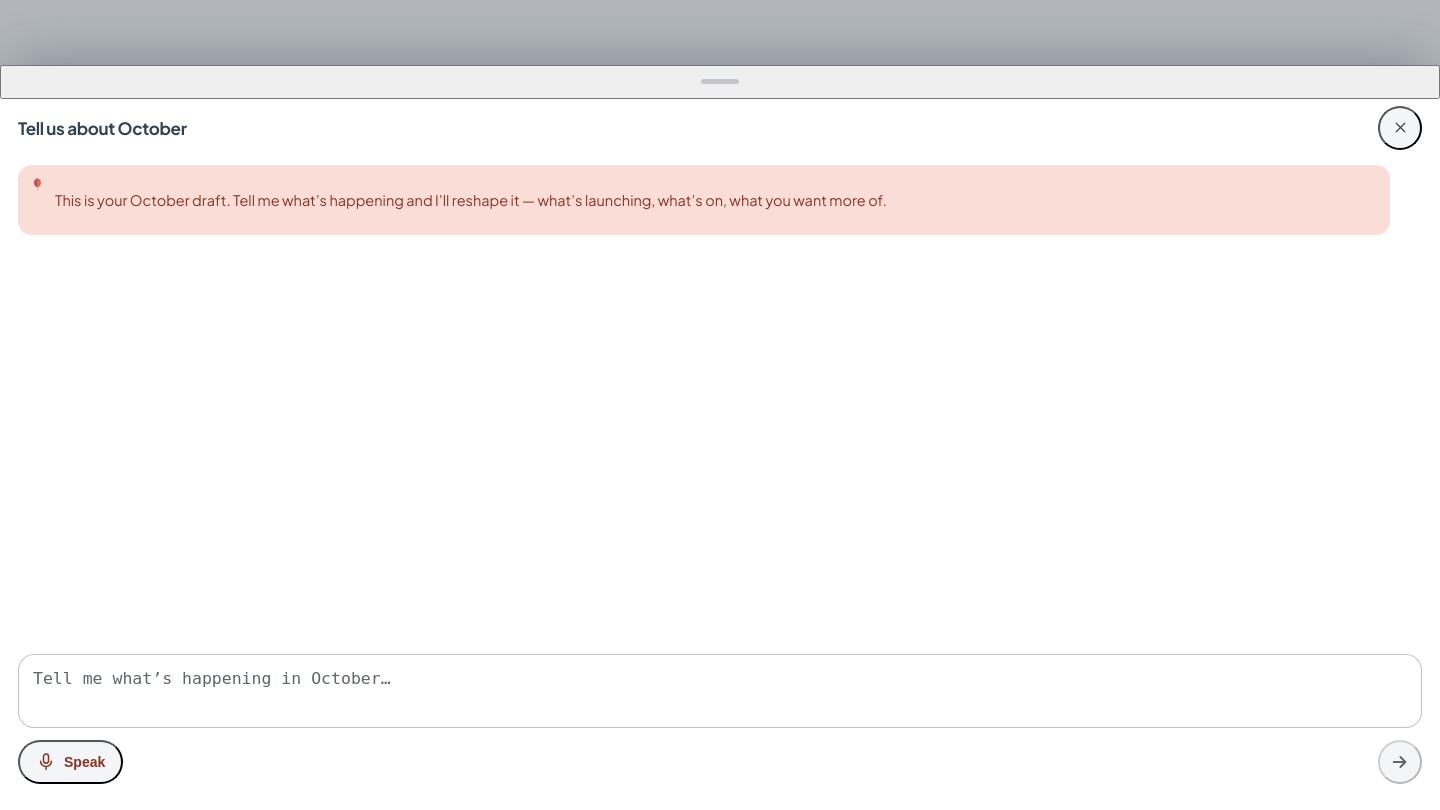
the microphone is a TAP control on a keyboard-first composer › and a session the engine ends by itself keeps it too
Click the button with test id "voice-mic" at (71, 762), box [18, 740, 123, 784]
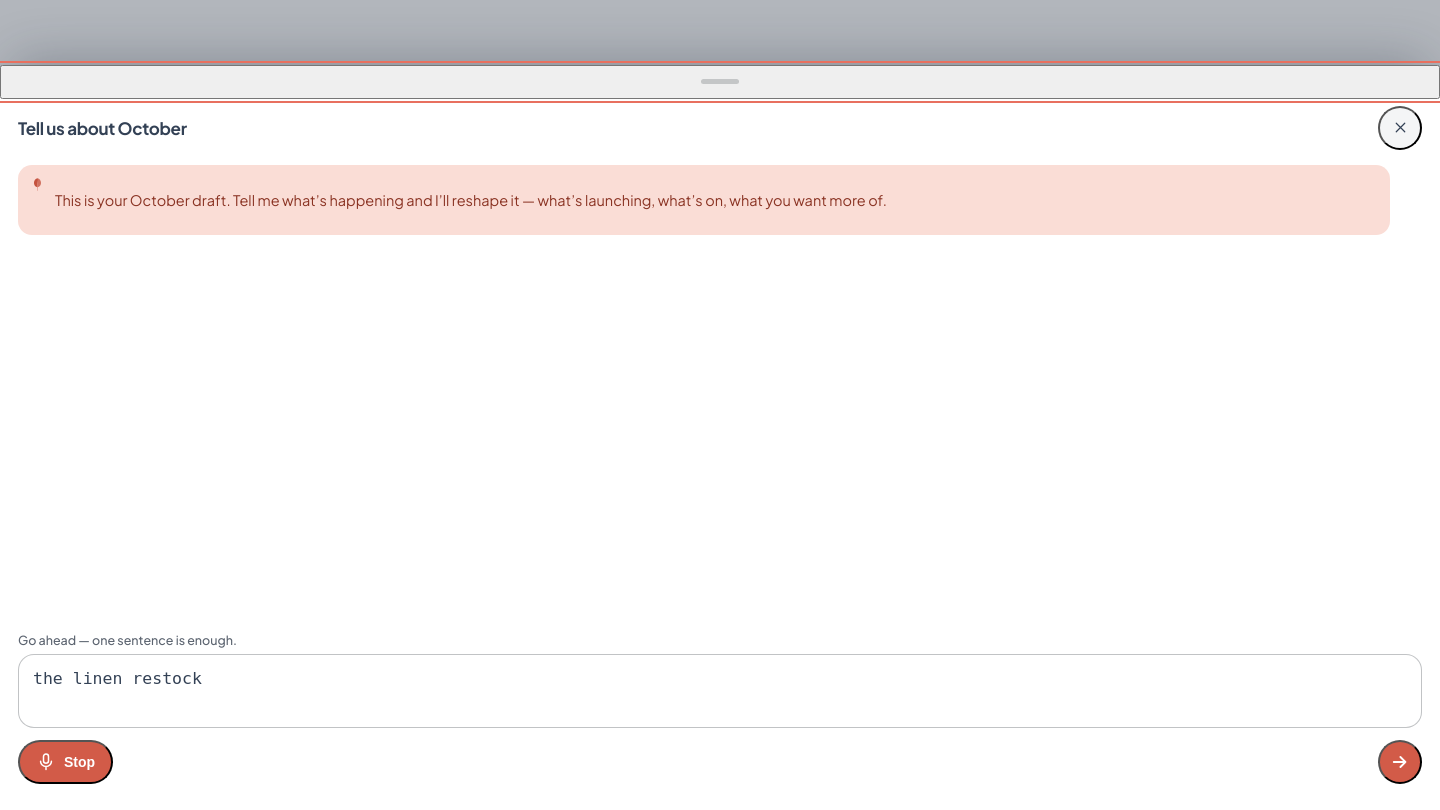
Now the text box with test id "voice-input" holds "the linen restock", box [18, 654, 1422, 728]
